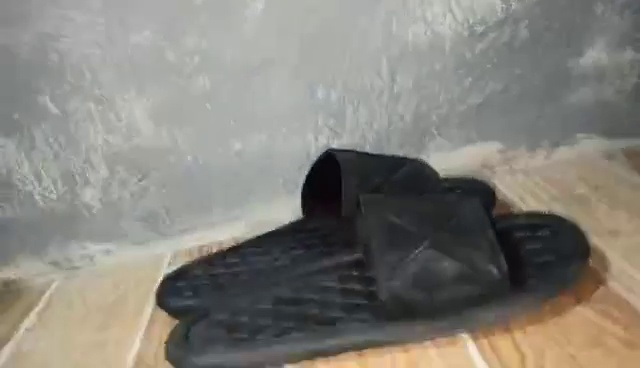slipper: (166, 195, 588, 368), (156, 151, 503, 308)
